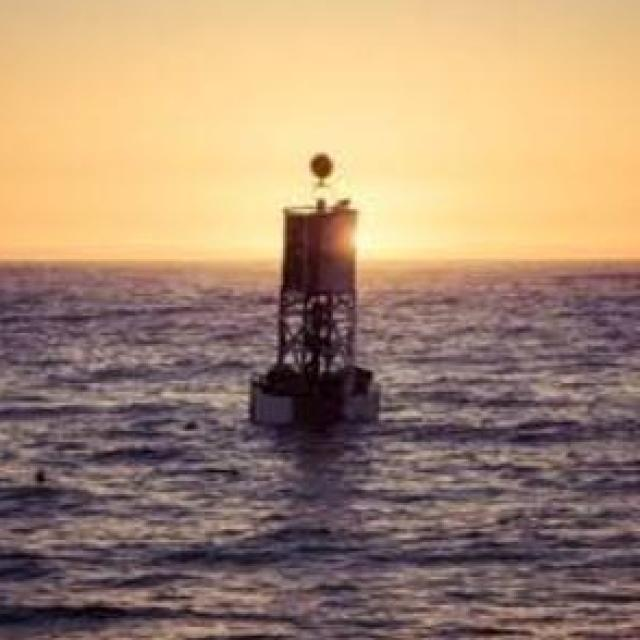buoy: (246, 151, 386, 423)
